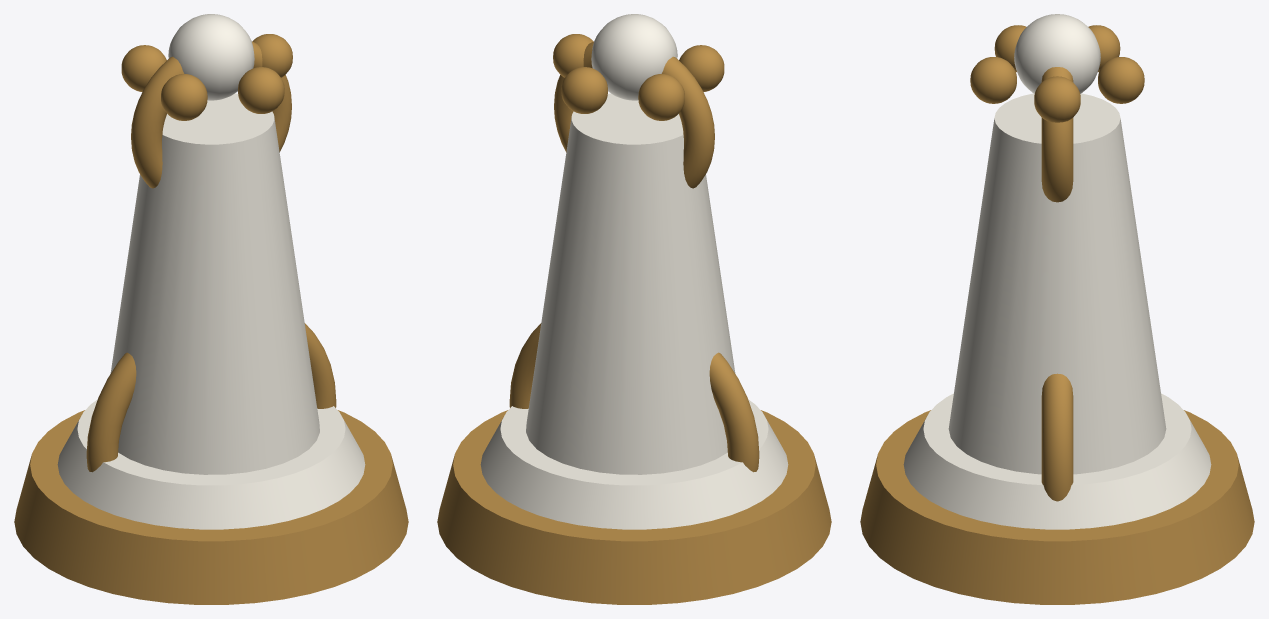
3 renders of one model, left to right at view 1: azimuth 30°, elevation 25°; view 2: azimuth 150°, elevation 25°; view 3: azimuth 270°, elevation 25°, orthographic.
Bounding box in the file's own units: 0.9972 × 1.51 × 1.
